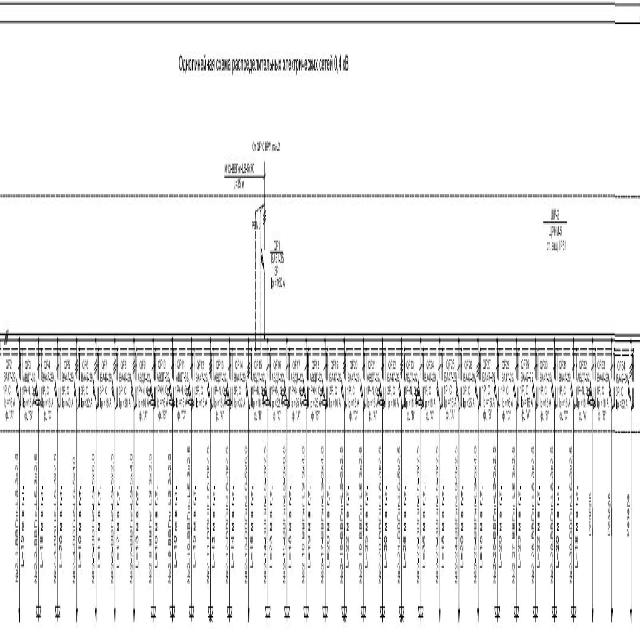-: (270, 239, 286, 292), (346, 368, 361, 421), (443, 370, 458, 422), (423, 370, 438, 422), (558, 369, 572, 422), (290, 371, 304, 424), (250, 369, 264, 422), (482, 368, 496, 421), (136, 369, 150, 422), (174, 369, 188, 422), (41, 368, 55, 421), (520, 368, 534, 421), (213, 371, 227, 424), (576, 370, 590, 422), (270, 372, 284, 424), (538, 370, 552, 422), (366, 370, 380, 422), (404, 370, 418, 422), (2, 370, 16, 422), (22, 372, 36, 424), (500, 370, 514, 422), (308, 370, 322, 422), (594, 370, 608, 422), (157, 370, 170, 422), (546, 222, 566, 254), (194, 369, 208, 412), (233, 370, 247, 412), (462, 369, 476, 411), (118, 370, 132, 410), (60, 369, 74, 409), (386, 370, 400, 410), (80, 369, 94, 409), (328, 372, 342, 412), (615, 373, 629, 411), (99, 370, 112, 410)
QF: (260, 238, 266, 276), (206, 373, 212, 408), (244, 373, 250, 408), (91, 373, 98, 402), (626, 376, 632, 406), (397, 373, 403, 403), (130, 374, 136, 404), (111, 374, 117, 404), (474, 375, 480, 405), (512, 373, 518, 403), (550, 372, 556, 402), (340, 375, 346, 405), (72, 373, 78, 402), (570, 374, 575, 404), (607, 373, 612, 403), (493, 372, 498, 402), (531, 374, 536, 404), (360, 375, 364, 405), (54, 372, 58, 402), (436, 372, 440, 402), (456, 372, 460, 402), (16, 372, 20, 402)
QFD: (376, 374, 386, 411), (262, 374, 271, 412), (300, 370, 309, 408), (587, 372, 596, 409), (167, 373, 176, 410), (147, 372, 156, 409), (415, 373, 424, 410), (320, 373, 328, 410), (282, 372, 290, 409), (224, 372, 232, 409), (186, 372, 194, 408), (32, 372, 40, 408)
